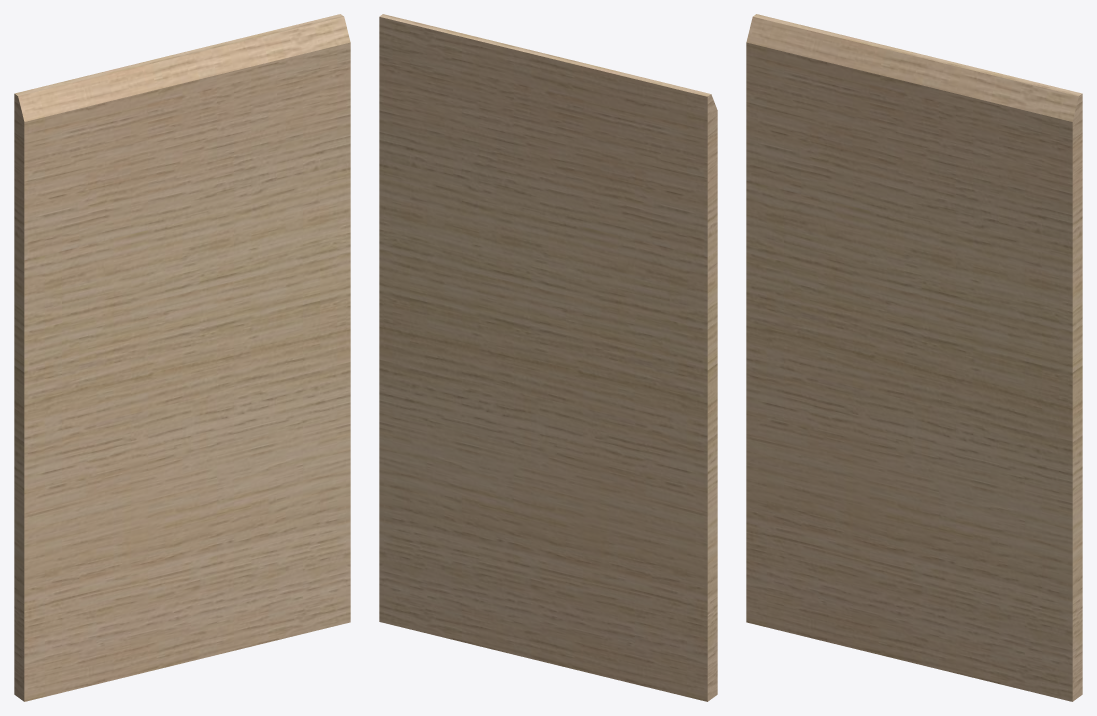
File: dor_S9_dor_venstre_140.glb
The picture shows the model from 3 angles, left to right: view 1: azimuth 30°, elevation 25°; view 2: azimuth 150°, elevation 25°; view 3: azimuth 330°, elevation 25°; orthographic projection.
Size of the model in its own units: 356 by 626 by 19.
1 material, 1 textured.
